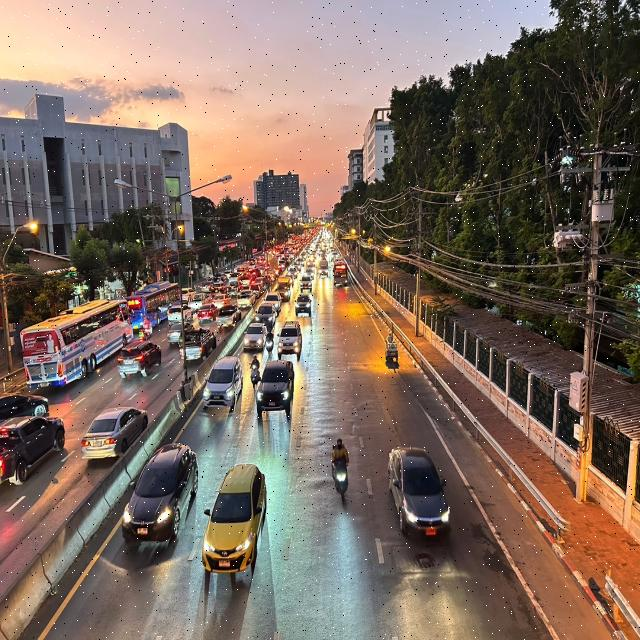bike: (322, 424, 356, 514)
